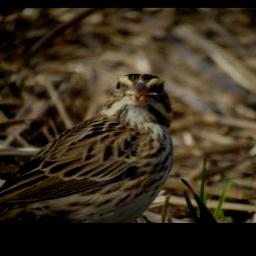Sparrow: (0, 72, 178, 222)
